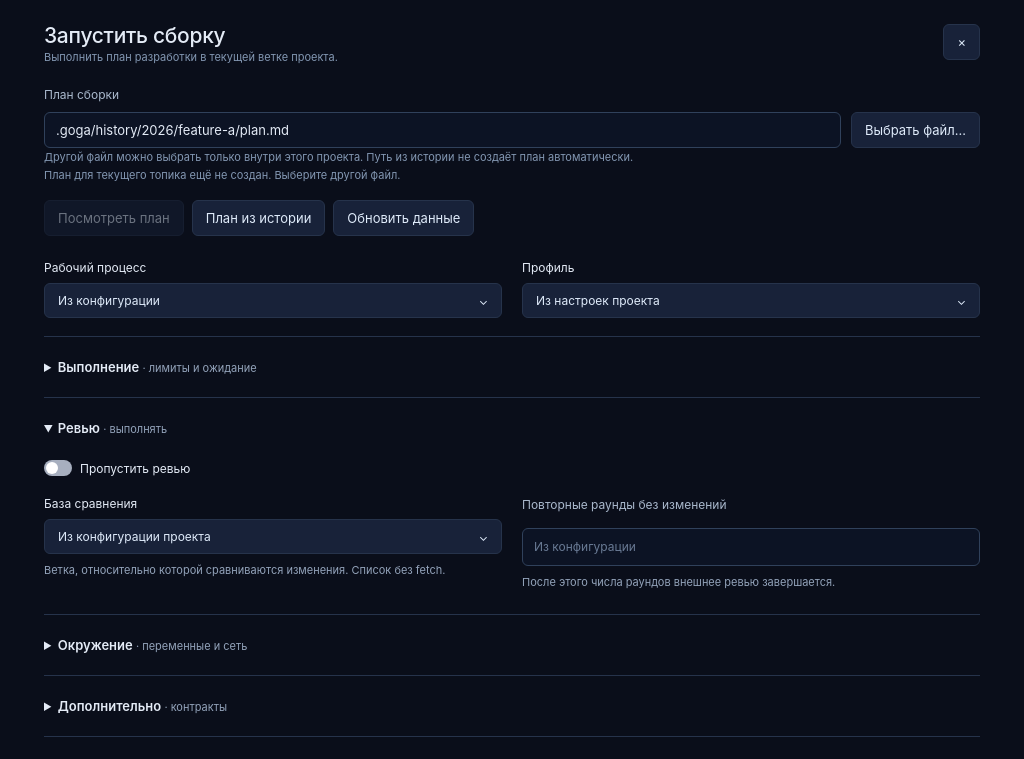
Scenario: shows one compact missing-plan state without IPC details; alternative plan recovers
Expected: the text "План для текущего топика ещё не создан. Выберите другой файл." is shown once, [44,168,400,182]
Expected: the button "Посмотреть план" is disabled, [44,200,184,236]
Replace the text in the field labelled "План сборки" with "docs/plan.md" at (442, 130), box [44,112,841,148]
(page scrolled)
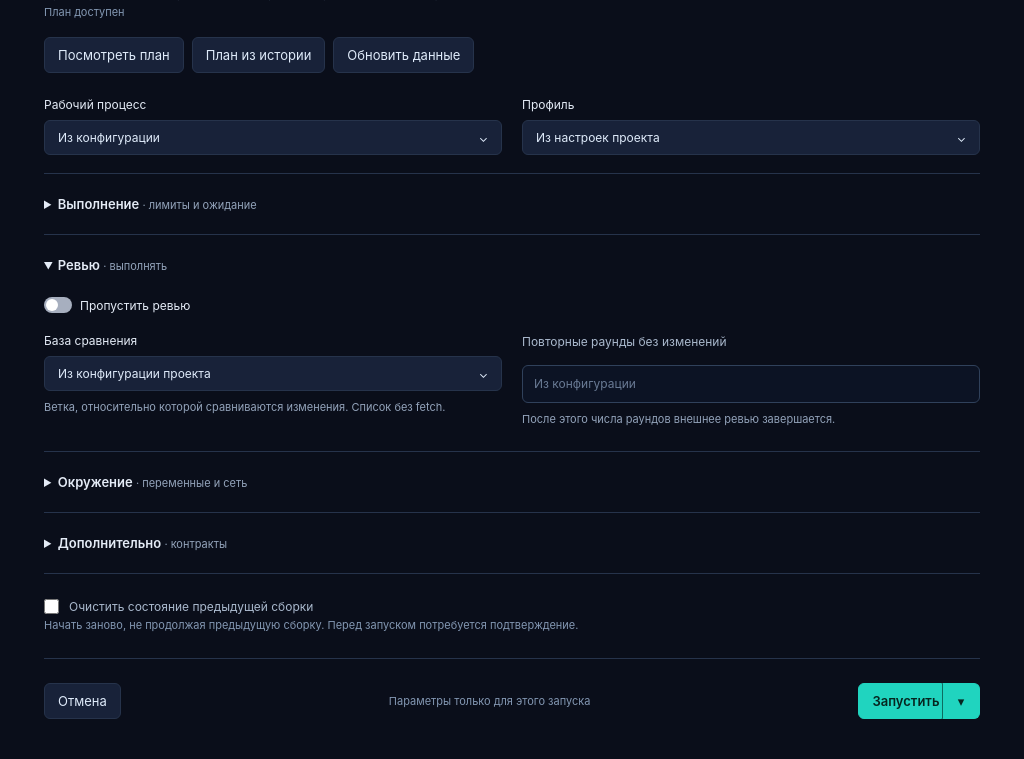
Expected: the text "План доступен" is shown, [44,5,124,19]
Expected: the text "План для текущего топика ещё не создан. Выберите другой файл." is gone
Expected: the button "Запустить" is enabled, [858,683,942,719]
